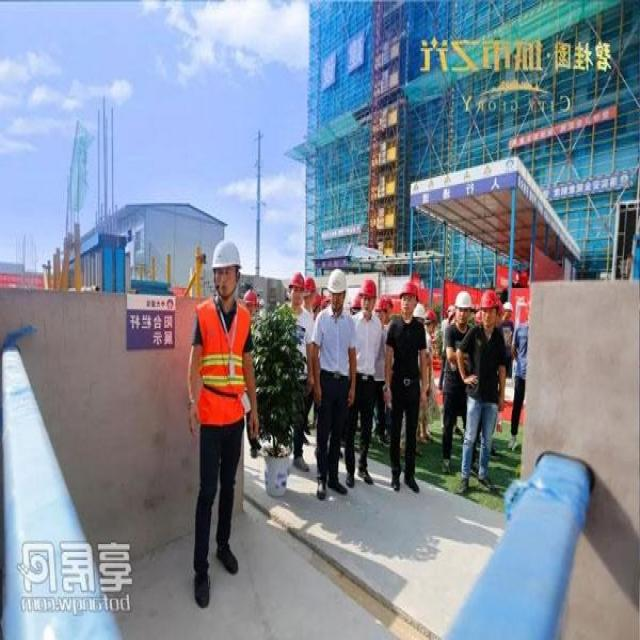Reflective-Jacket: (193, 298, 253, 426)
Safety-Helmet: (210, 236, 244, 270), (326, 266, 348, 292), (480, 286, 499, 309), (454, 290, 474, 310), (400, 278, 419, 298), (362, 275, 378, 296)
